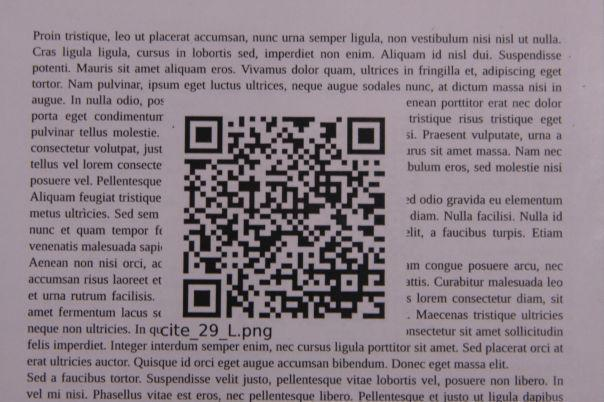qr_code: (182, 116, 386, 319)
